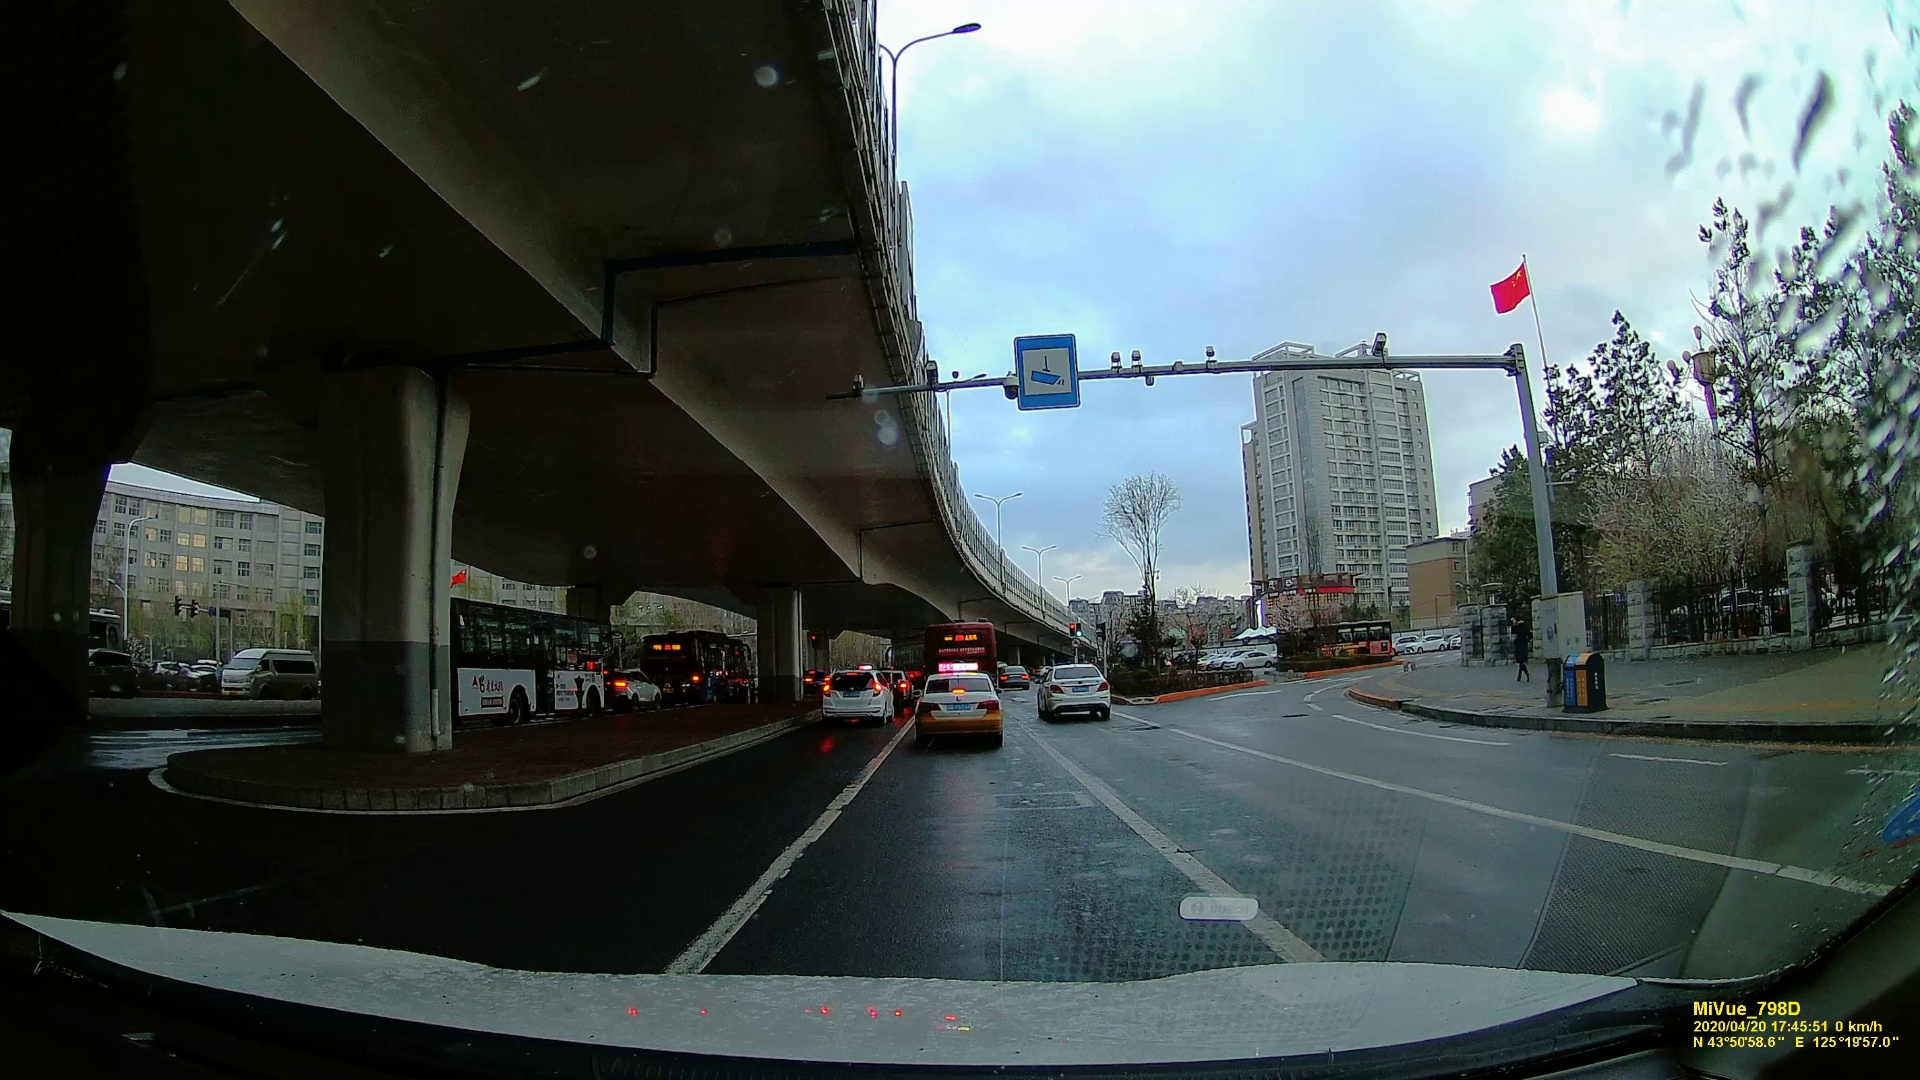bus: (449, 598, 620, 722), (636, 634, 757, 709), (924, 619, 993, 679)
minibus: (219, 647, 321, 699)
person: (1507, 614, 1534, 681)
traffic_sign: (1008, 332, 1081, 410), (1069, 620, 1081, 638)
vehicle: (909, 667, 1007, 745), (1033, 662, 1113, 720), (822, 667, 898, 726), (1001, 666, 1029, 687)
